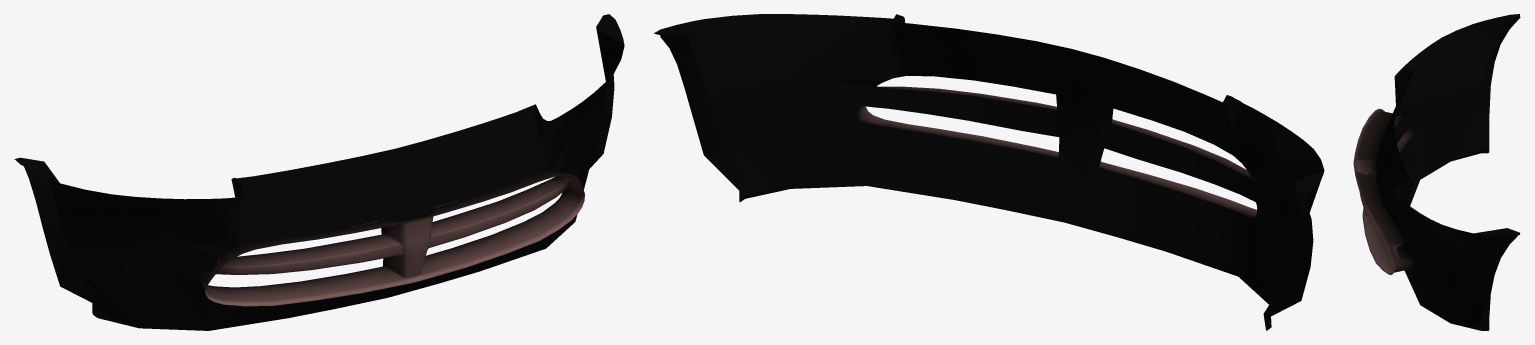
File: Viper_FB_03_Trim.fbx
3 views of the same model, side by side, from view 1: azimuth 30°, elevation 25°; view 2: azimuth 150°, elevation 25°; view 3: azimuth 270°, elevation 25° (orthographic). The views are drawn at different scales.
Visible parts, largest first — view 1: Viper_FB_03_Trim; view 2: Viper_FB_03_Trim; view 3: Viper_FB_03_Trim.
Boxes of the visible parts, x1,y1,x2,y2 form: Viper_FB_03_Trim: [14, 14, 624, 330]; Viper_FB_03_Trim: [654, 14, 1324, 330]; Viper_FB_03_Trim: [1353, 14, 1520, 330].
Size of the model in its own units: 182 by 45.36 by 58.15.
